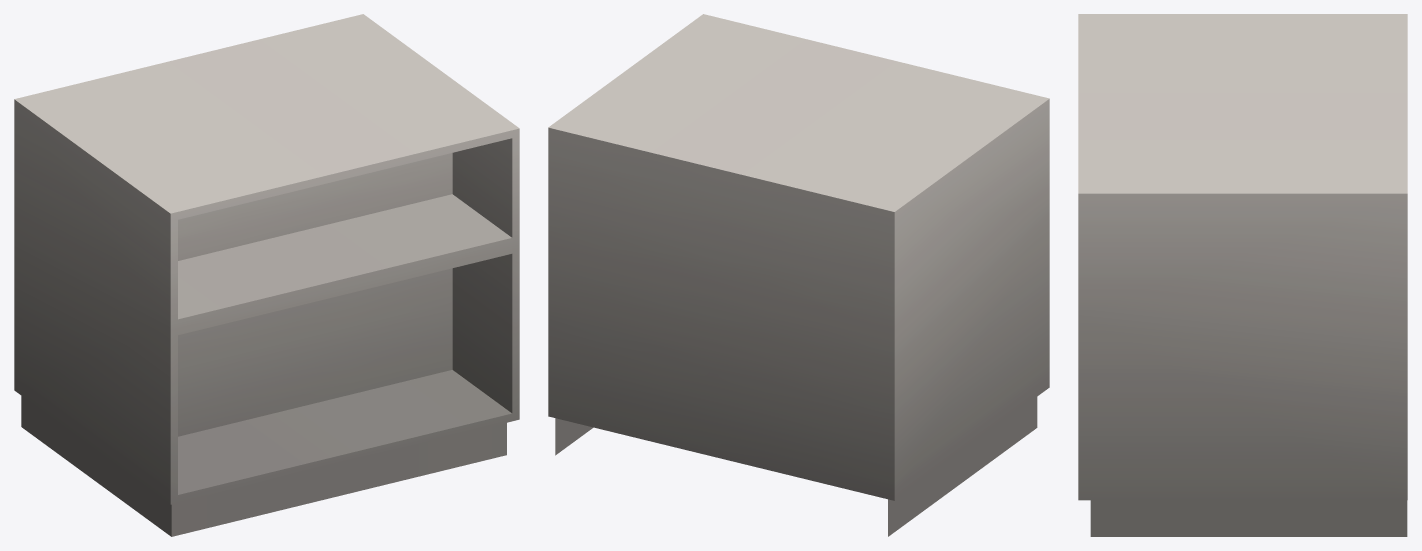
The model's file is Unit_100cm.fbx.
3 views of the same model, side by side, from view 1: azimuth 30°, elevation 25°; view 2: azimuth 150°, elevation 25°; view 3: azimuth 270°, elevation 25° (orthographic). The views are drawn at different scales.
Parts seen in each view (by area): view 1: Unit_100cm; view 2: Unit_100cm; view 3: Unit_100cm.
Part boxes in pixels (x1=…): Unit_100cm: x1=14, y1=14, x2=519, y2=536; Unit_100cm: x1=548, y1=14, x2=1049, y2=536; Unit_100cm: x1=1078, y1=14, x2=1407, y2=536.
Bounding box in the file's own units: 99.89 × 90 × 77.48.
